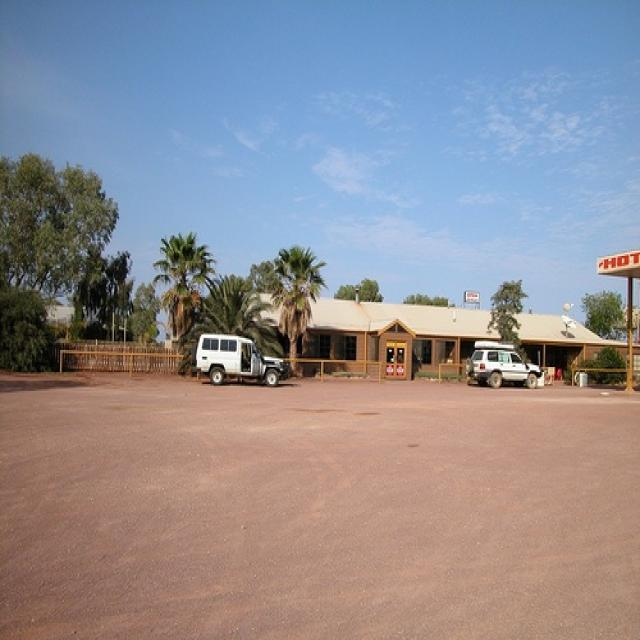car: (195, 331, 284, 386), (465, 340, 544, 390)
